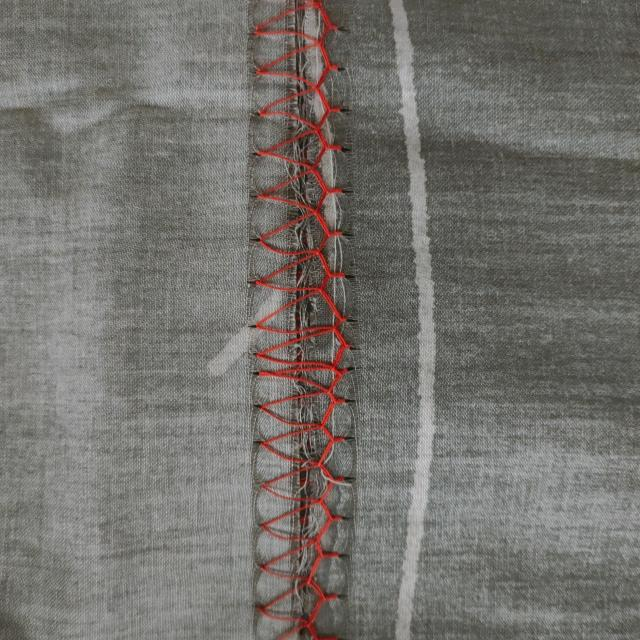gray stitch: (238, 3, 360, 640)
